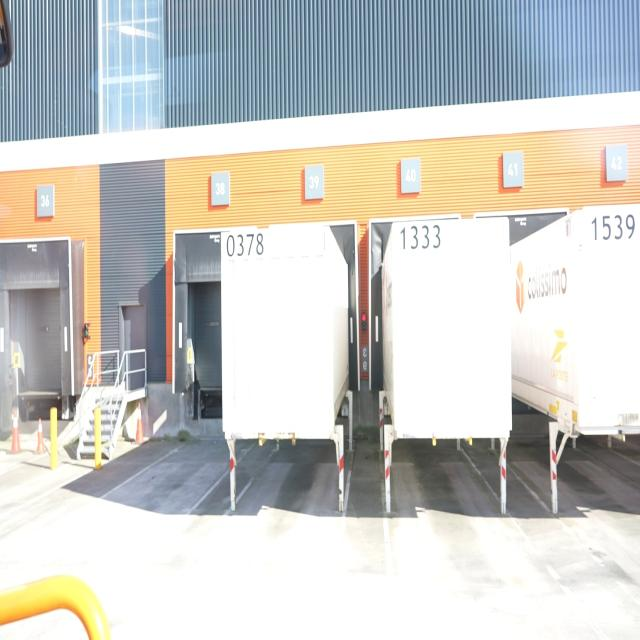Code: (590, 210, 639, 247), (399, 220, 444, 252), (224, 230, 265, 260)
